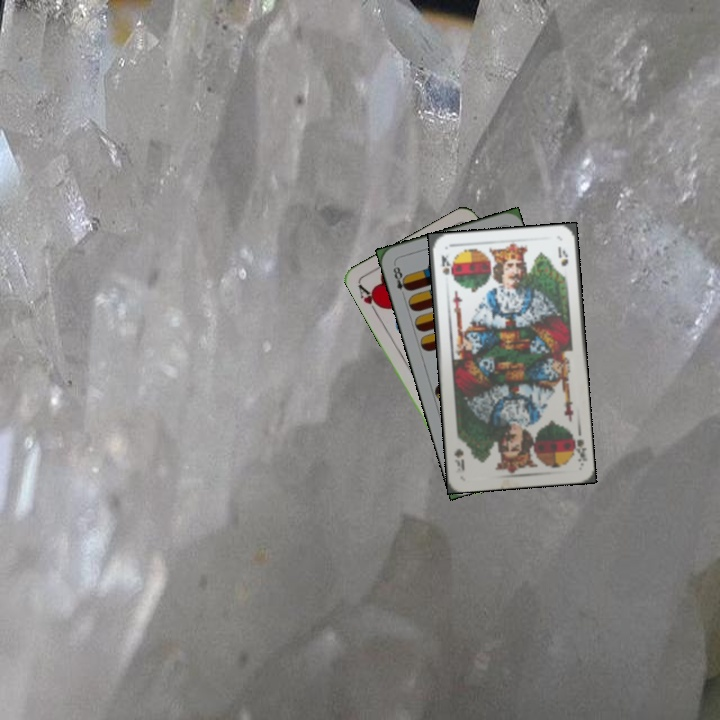E8: (389, 260, 412, 300)
HA: (353, 280, 385, 317)
SK: (568, 429, 589, 467), (437, 251, 454, 279)
